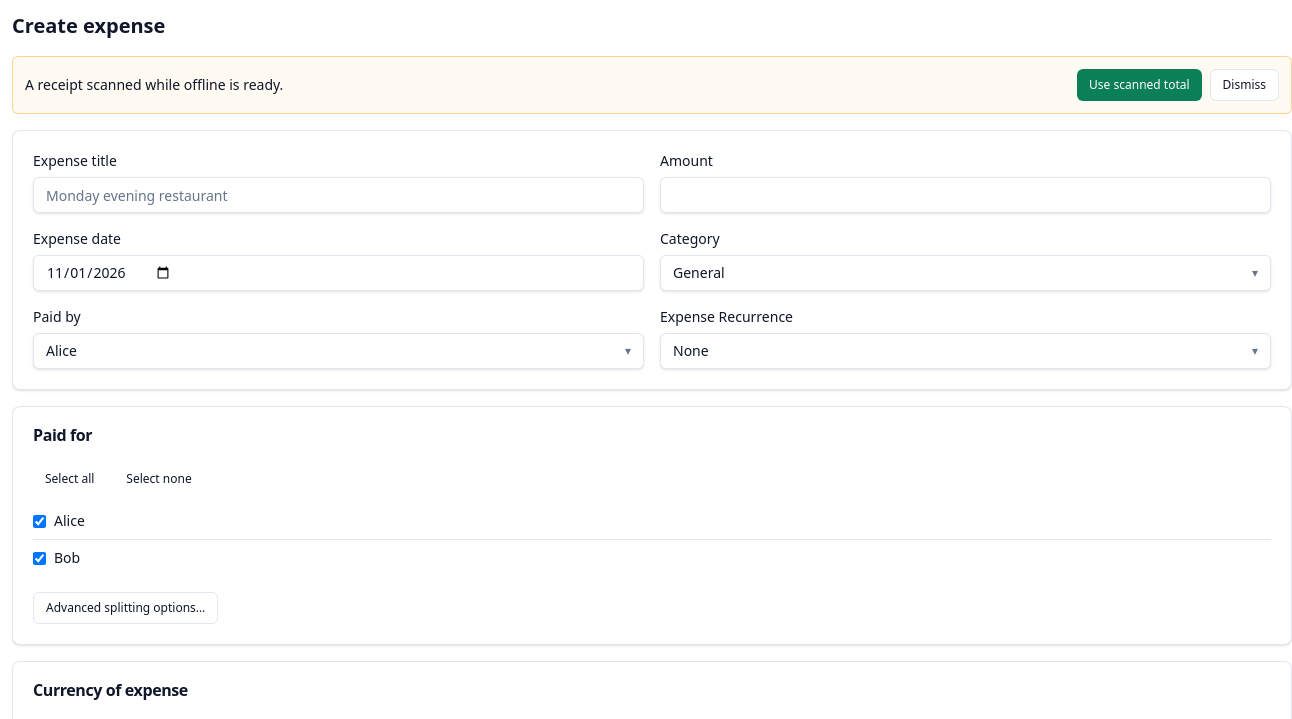
Scenario: ExpenseForm › surfaces and consumes a queued total-only receipt scan
Expected: the text "A receipt scanned while offline is ready." is shown, 25,75 -> 283,95
Click the button "Use scanned total" at {"x": 1139, "y": 85}, box 1077,69 -> 1202,101
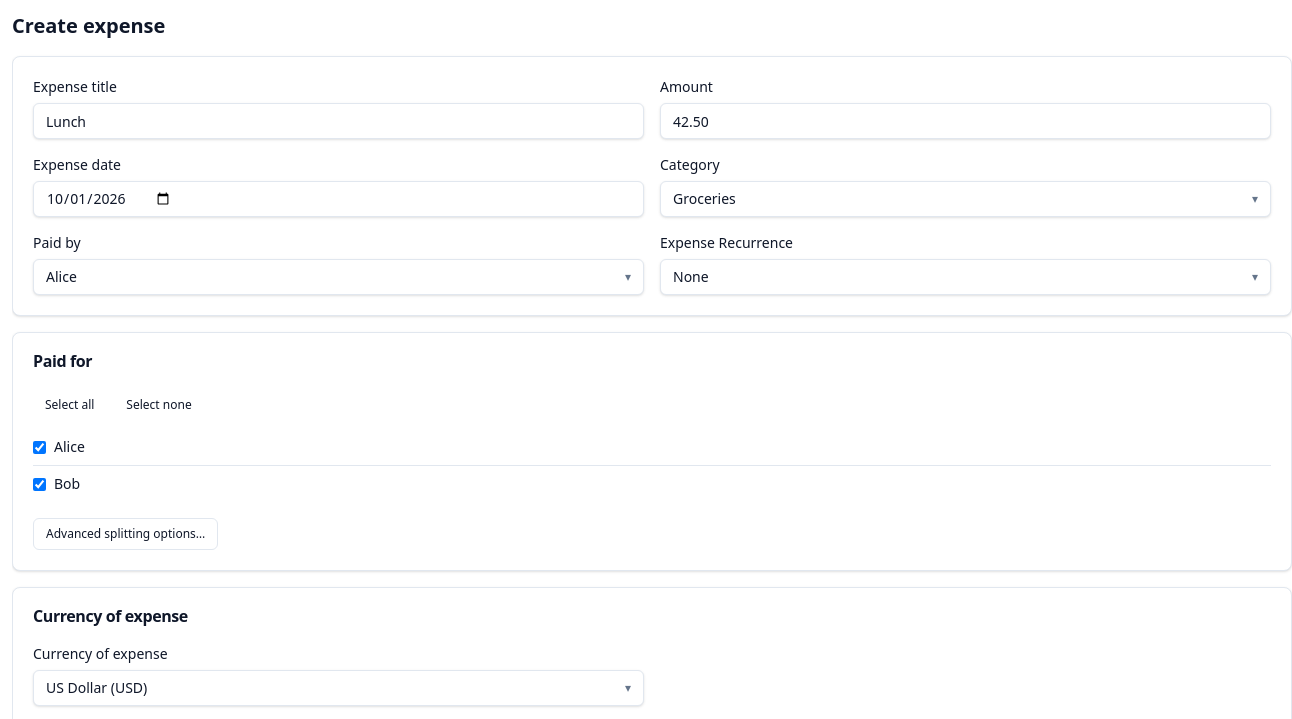
Result: the field labelled "Expense title" holds "Lunch" at 33,103 -> 644,139
Result: the field labelled "Amount" holds "42.50" at 660,103 -> 1271,139
Result: the text "A receipt scanned while offline is ready." is gone
